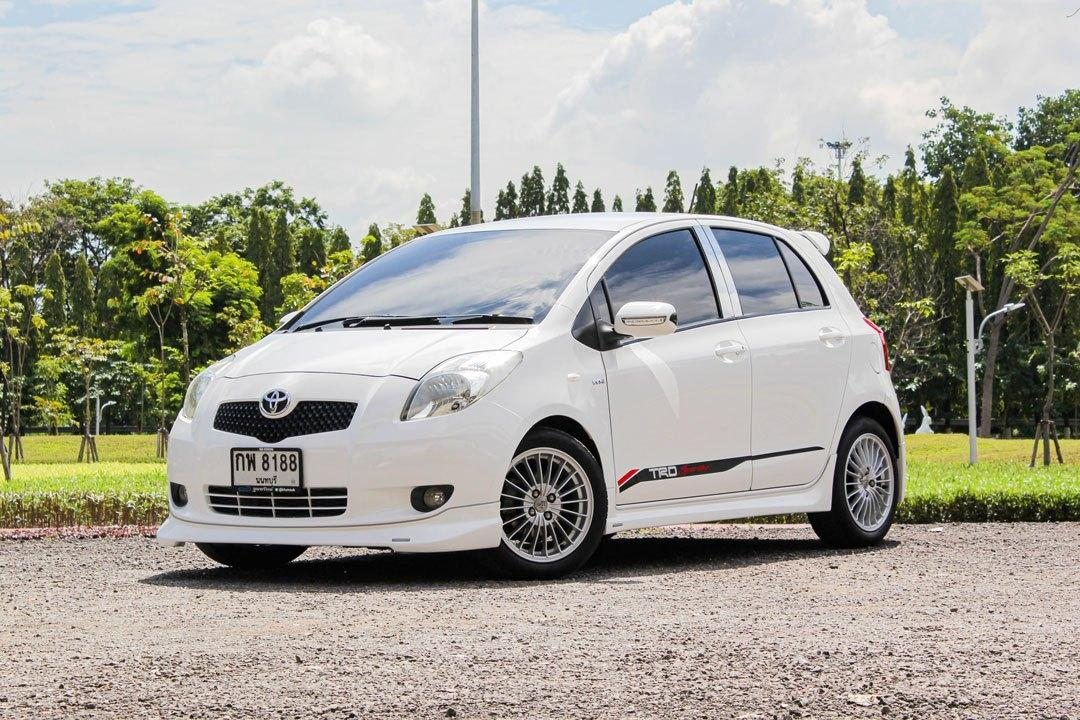license-plate: (222, 437, 313, 497)
